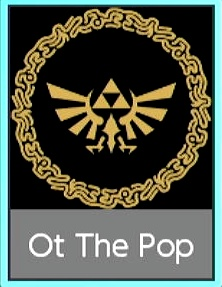user_box: (1, 1, 222, 287)
